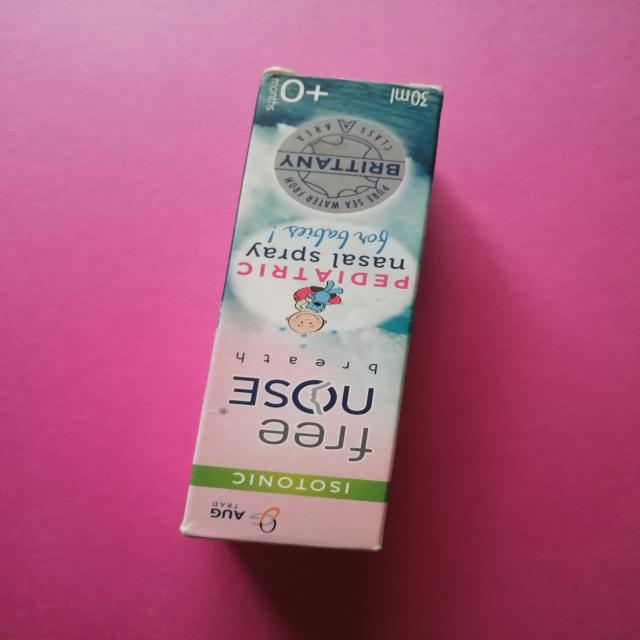Free Nose: (163, 68, 475, 590)
